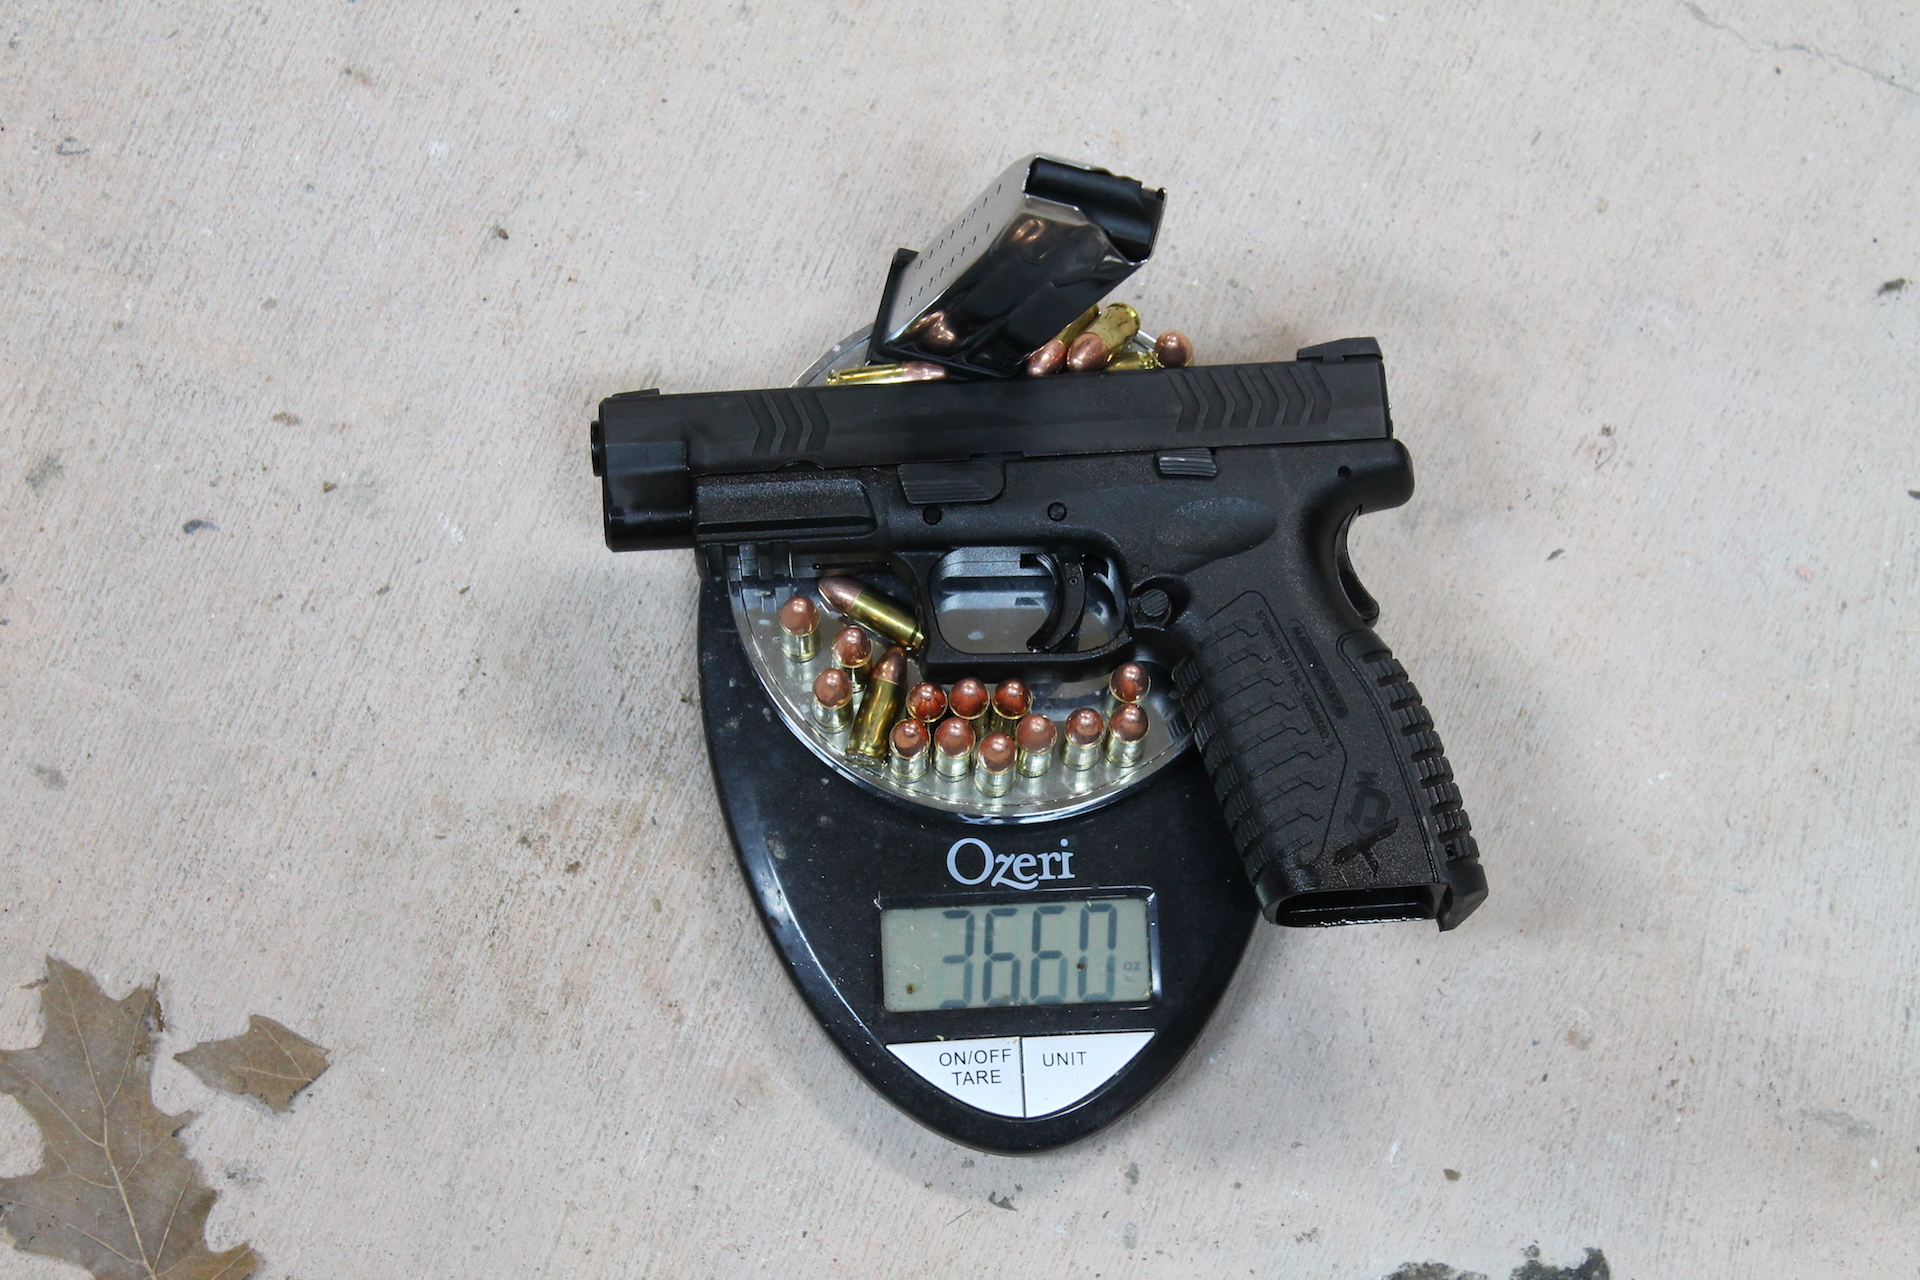pistol: (589, 340, 1490, 934)
